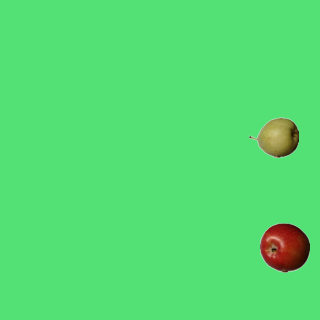Apple Braeburn: (259, 222, 309, 272)
Pear: (248, 112, 298, 162)
